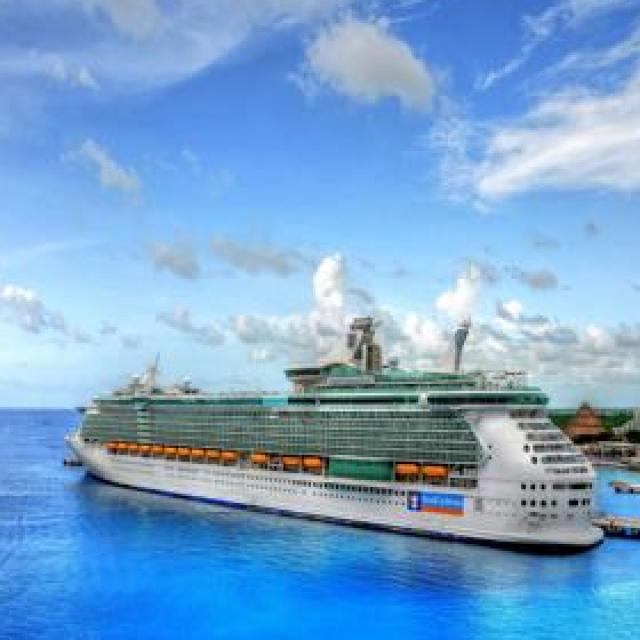passenger ship: (63, 317, 603, 558)
